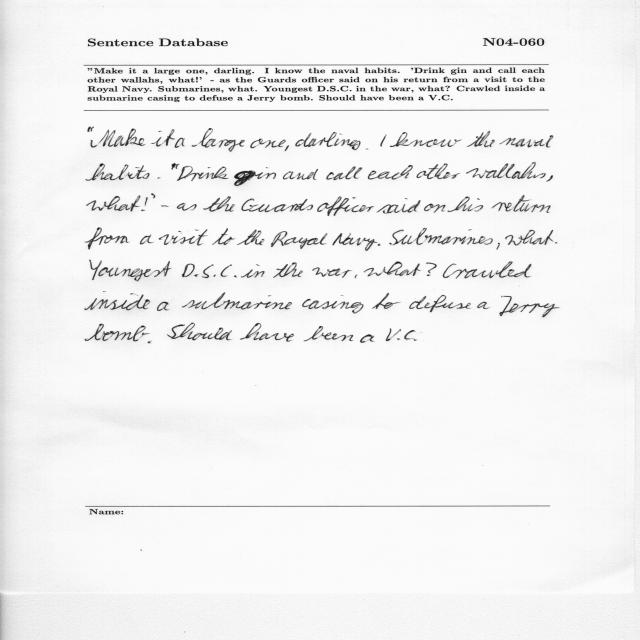word: (182, 293, 292, 310), (389, 228, 493, 245), (90, 260, 172, 281), (443, 262, 531, 279), (466, 162, 546, 179), (499, 296, 560, 317), (192, 128, 245, 152), (295, 132, 361, 150), (317, 196, 374, 216), (86, 163, 149, 181), (302, 295, 364, 313), (85, 294, 150, 311), (85, 324, 150, 341), (167, 323, 232, 340), (390, 132, 462, 147), (491, 195, 551, 213), (409, 295, 471, 312), (91, 129, 146, 148), (87, 195, 148, 212), (240, 323, 294, 342), (271, 231, 327, 249), (85, 228, 129, 250), (242, 199, 314, 212), (364, 262, 421, 277), (159, 229, 208, 246), (333, 233, 378, 251), (234, 167, 276, 186), (182, 264, 237, 278), (177, 166, 228, 181), (505, 230, 554, 245), (304, 326, 353, 341), (377, 198, 421, 214), (500, 135, 553, 148), (368, 165, 413, 180), (417, 164, 461, 179), (447, 197, 483, 212), (203, 196, 235, 212), (273, 262, 303, 278), (326, 167, 362, 180), (466, 131, 495, 147), (372, 293, 400, 309), (312, 267, 352, 278), (151, 129, 175, 147), (237, 230, 264, 245), (212, 228, 235, 245), (386, 328, 416, 341), (283, 169, 318, 180), (250, 139, 286, 149), (241, 264, 265, 278), (424, 204, 446, 213), (177, 203, 197, 211), (426, 263, 437, 276), (140, 235, 153, 245), (360, 334, 374, 343), (174, 138, 185, 148), (157, 302, 169, 311), (477, 302, 490, 309), (380, 135, 387, 147), (546, 175, 553, 182), (172, 163, 180, 169), (88, 127, 94, 132), (285, 146, 290, 152), (496, 243, 500, 250), (152, 194, 156, 199), (161, 205, 169, 207), (355, 275, 358, 278), (148, 341, 152, 343), (158, 177, 161, 179), (378, 244, 381, 246), (366, 149, 369, 150), (555, 242, 557, 243)
